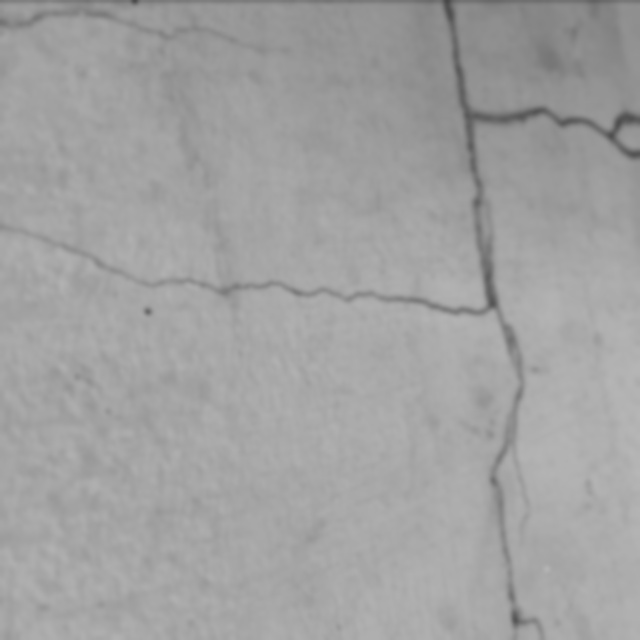SurfaceCrack: (0, 181, 600, 344), (432, 271, 618, 640)
